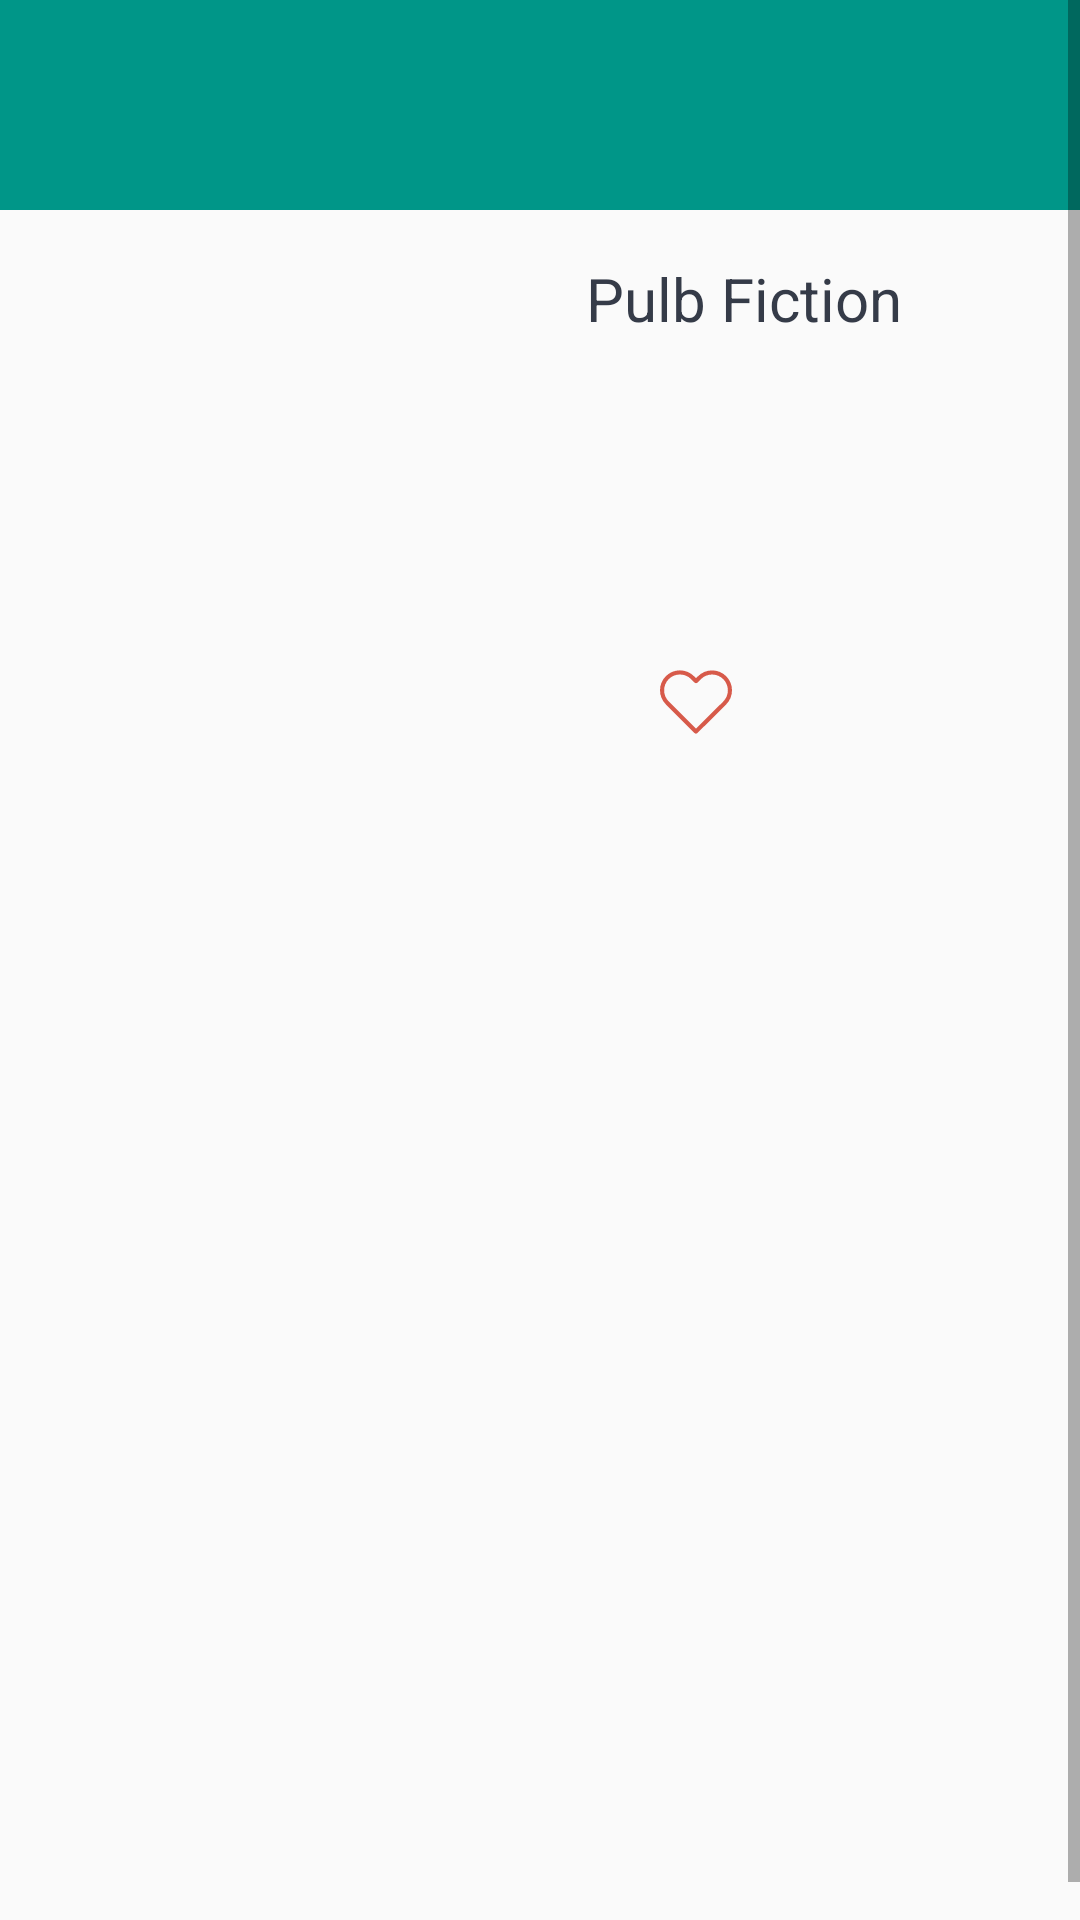

Named icons in this screenshot (1080*1920) and their bounding boxes, (x1, y1, x2, y2):
Mark as favorite: (660, 670, 732, 734)
